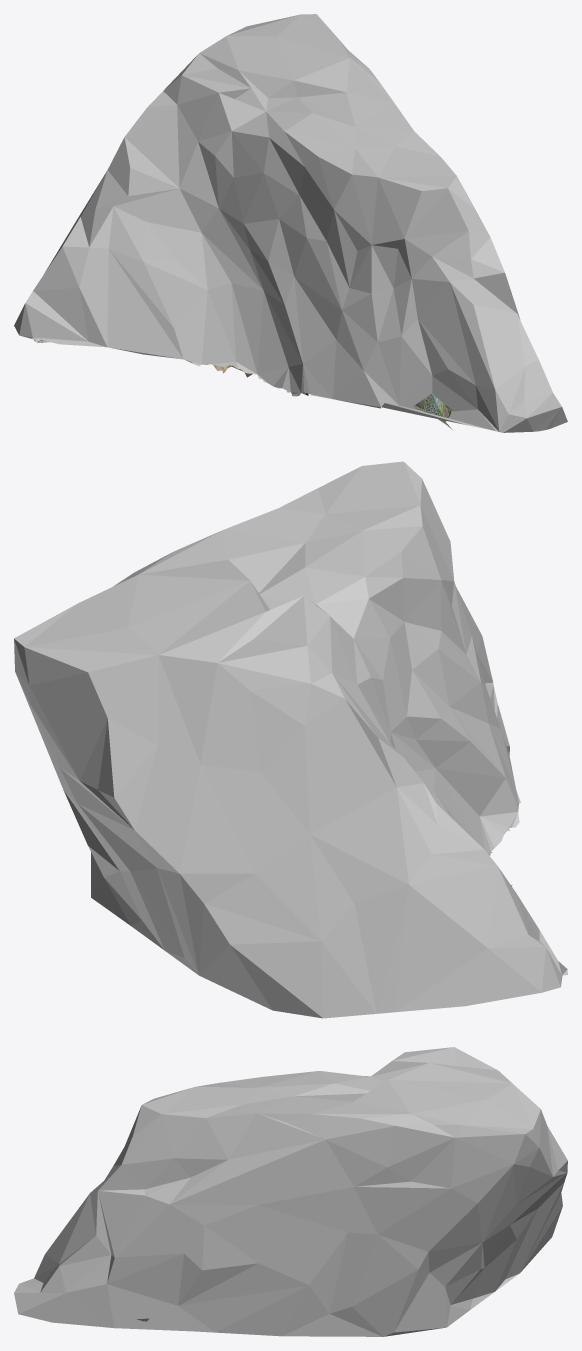
3 views of the same model, one above another, from view 1: azimuth 30°, elevation 25°; view 2: azimuth 150°, elevation 25°; view 3: azimuth 270°, elevation 25° (orthographic). The views are drawn at different scales.
Parts seen in each view (by area): view 1: Group_Global; view 2: Group_Global; view 3: Group_Global.
Boxes of the visible parts, x1,y1,x2,y2 form: Group_Global: (14,14,567,432); Group_Global: (14,461,567,1018); Group_Global: (14,1047,567,1336).
Bounding box in the file's own units: 1.99 × 1.25 × 2.91.
2 materials, 1 textured.
